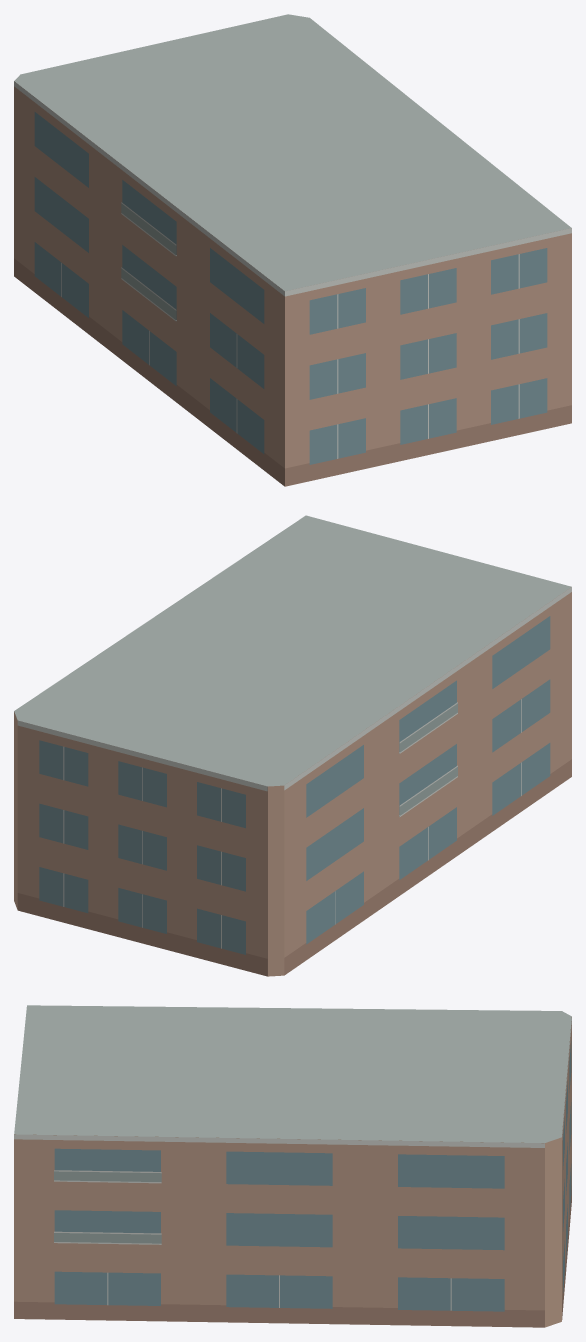
Rendered from survey-upis-32662663.glb.
3 renders of one model, top to bottom at view 1: azimuth 30°, elevation 25°; view 2: azimuth 150°, elevation 25°; view 3: azimuth 270°, elevation 25°, orthographic. The views are drawn at different scales.
Visible parts, largest first — view 1: survey-upis-32662663.tmp; view 2: survey-upis-32662663.tmp; view 3: survey-upis-32662663.tmp.
Part boxes in pixels (x1,y1,x2,y2): survey-upis-32662663.tmp: (14,14,571,486); survey-upis-32662663.tmp: (14,515,571,976); survey-upis-32662663.tmp: (14,1005,571,1327).
Size of the model in its own units: 14.67 by 9.15 by 25.08.
